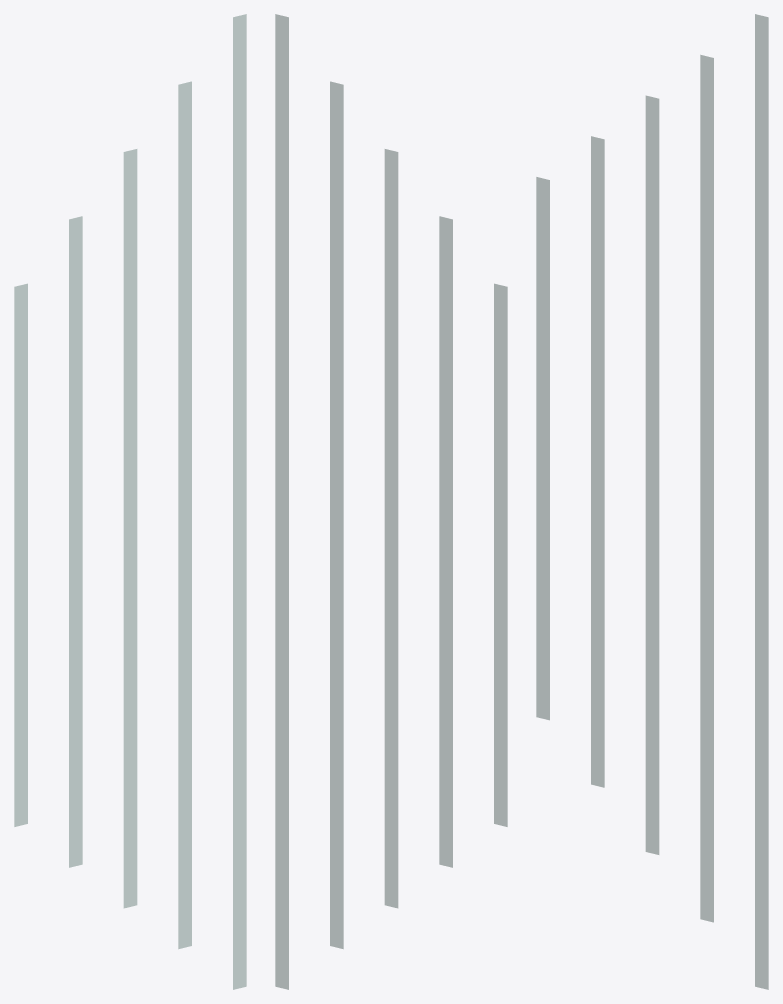
File: WarrensC_CCS58_VerticalDripCard_Mars_SM.fbx
3 renders of one model, left to right at view 1: azimuth 30°, elevation 25°; view 2: azimuth 150°, elevation 25°; view 3: azimuth 330°, elevation 25°, orthographic.
Parts seen in each view (by area): view 1: WarrensC_CCS58_VerticalDripCard_Mars_SM.001; view 2: WarrensC_CCS58_VerticalDripCard_Mars_SM.001; view 3: WarrensC_CCS58_VerticalDripCard_Mars_SM.001.
Boxes of the visible parts, box(x1,y1,x2,y2) form: WarrensC_CCS58_VerticalDripCard_Mars_SM.001: box(14, 14, 246, 989); WarrensC_CCS58_VerticalDripCard_Mars_SM.001: box(275, 14, 507, 989); WarrensC_CCS58_VerticalDripCard_Mars_SM.001: box(536, 14, 768, 989).
Bounding box in the file's own units: 30 × 2.62e-06 × 120.
